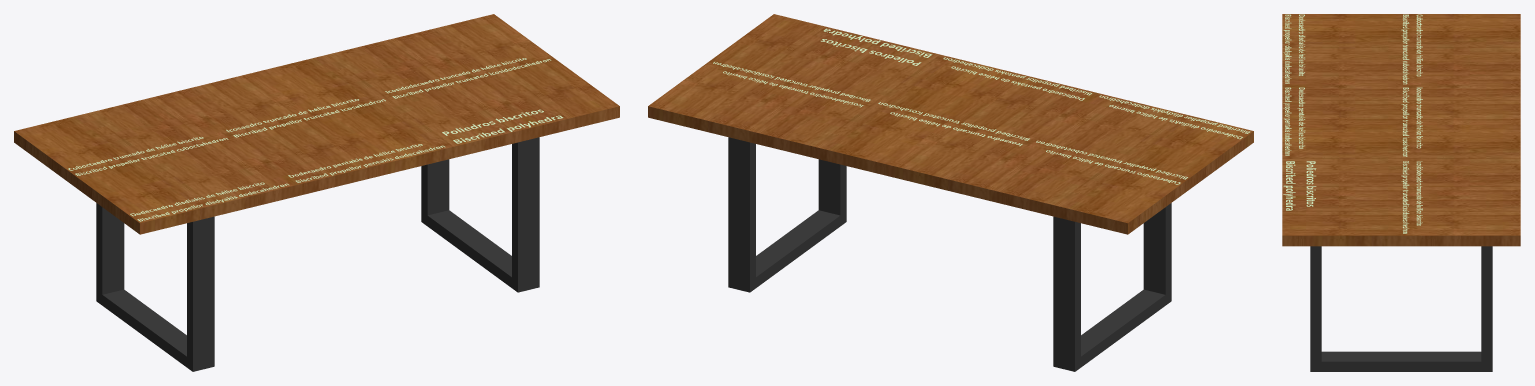
Rendered from biscribed5.glb.
3 views of the same model, side by side, from view 1: azimuth 30°, elevation 25°; view 2: azimuth 150°, elevation 25°; view 3: azimuth 270°, elevation 25° (orthographic). The views are drawn at different scales.
Visible parts, largest first — view 1: object 1, Composant#1 (×2), Icosidodecaedro, Dodecaedro disdi#1, Dodecaedro penta, Cuboctaedro trun#1, Icosaedro trunca#1, Poliedros biscri; view 2: object 1, Composant#1 (×2), Icosidodecaedro, Dodecaedro disdi#1, Cuboctaedro trun#1, Dodecaedro penta, Icosaedro trunca#1, Poliedros biscri; view 3: object 1, Composant#1, Icosidodecaedro, Dodecaedro disdi#1, Poliedros biscri, Dodecaedro penta, Cuboctaedro trun#1, Icosaedro trunca#1.
Boxes of the visible parts, x1,y1,x2,y2 form: object 1: [14, 14, 619, 234]; Composant#1 (×2): [96, 137, 539, 371]; Icosidodecaedro: [385, 58, 551, 98]; Dodecaedro disdi#1: [130, 182, 289, 221]; Dodecaedro penta: [288, 144, 445, 182]; Cuboctaedro trun#1: [68, 137, 228, 175]; Icosaedro trunca#1: [226, 99, 385, 137]; Poliedros biscri: [442, 109, 563, 143]; object 1: [648, 14, 1253, 234]; Composant#1 (×2): [728, 137, 1171, 371]; Icosidodecaedro: [713, 62, 870, 107]; Dodecaedro disdi#1: [1099, 95, 1250, 139]; Cuboctaedro trun#1: [1036, 140, 1187, 184]; Dodecaedro penta: [943, 57, 1091, 100]; Icosaedro trunca#1: [878, 102, 1029, 146]; Poliedros biscri: [821, 28, 932, 65]; object 1: [1282, 14, 1520, 246]; Composant#1: [1310, 246, 1492, 371]; Icosidodecaedro: [1401, 161, 1422, 233]; Dodecaedro disdi#1: [1283, 14, 1305, 83]; Poliedros biscri: [1283, 161, 1316, 210]; Dodecaedro penta: [1283, 87, 1305, 155]; Cuboctaedro trun#1: [1401, 14, 1422, 84]; Icosaedro trunca#1: [1401, 87, 1422, 156].
Size of the model in its own units: 2.2 by 0.7711 by 1.
Materials: 3 (1 with a texture image).
